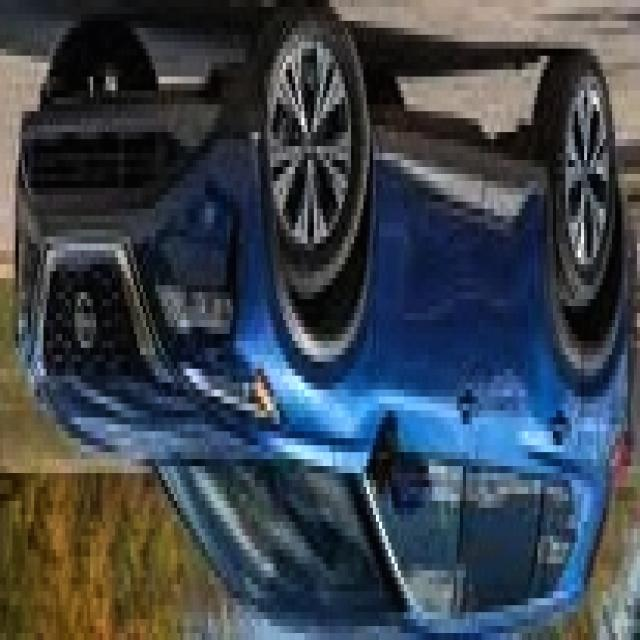blue: (11, 44, 640, 640)
